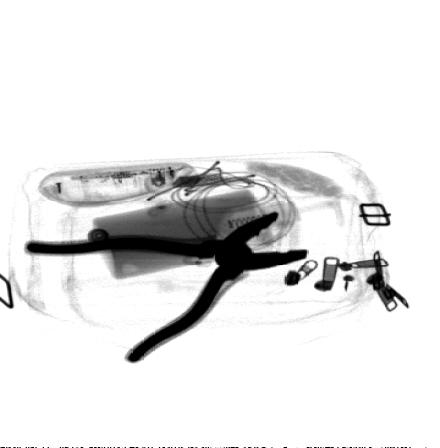Pliers: (24, 211, 311, 364)
